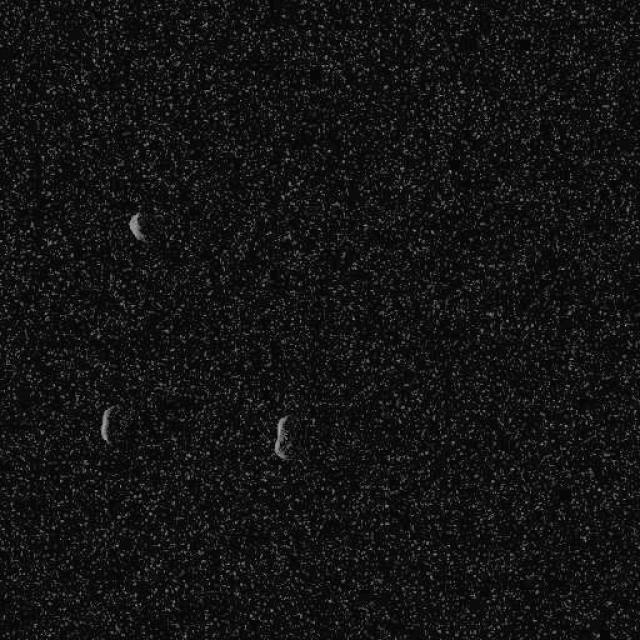D2: (272, 414, 292, 460), (126, 210, 148, 244), (98, 404, 114, 444)
